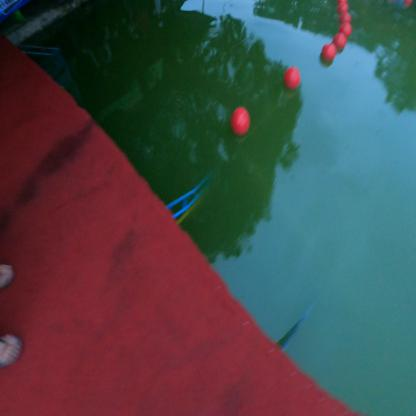red_buoy: (228, 102, 254, 136), (282, 61, 303, 94), (332, 28, 349, 54), (320, 38, 336, 65), (340, 19, 354, 40), (339, 9, 354, 26)
